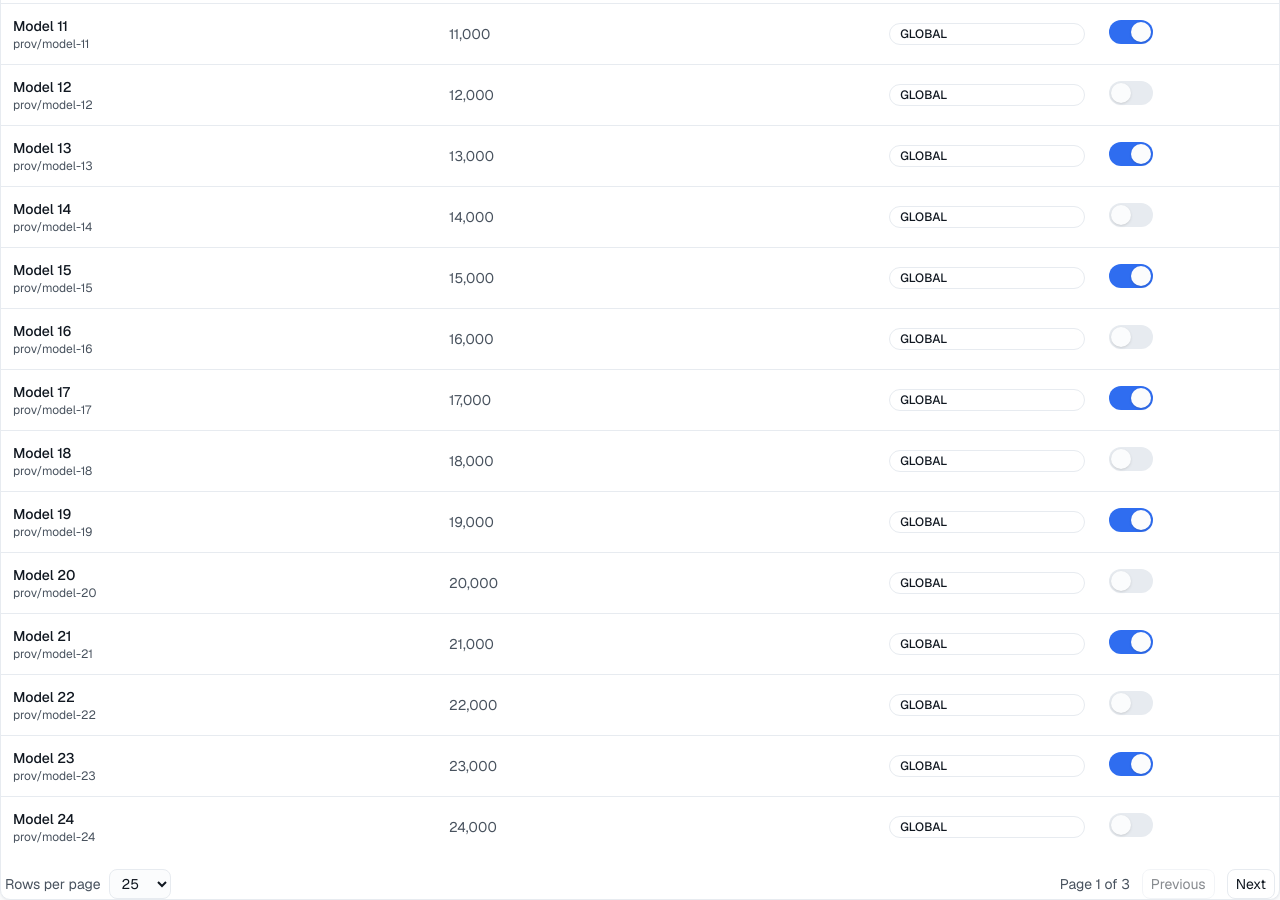
Test: ModelsPage — pagination › test_next_prev: Next/Previous move between page slices
The width and height of the screenshot is (1280, 900).
(page scrolled)
Click the button "Next" at x=1251, y=884, box [1227, 868, 1275, 898]
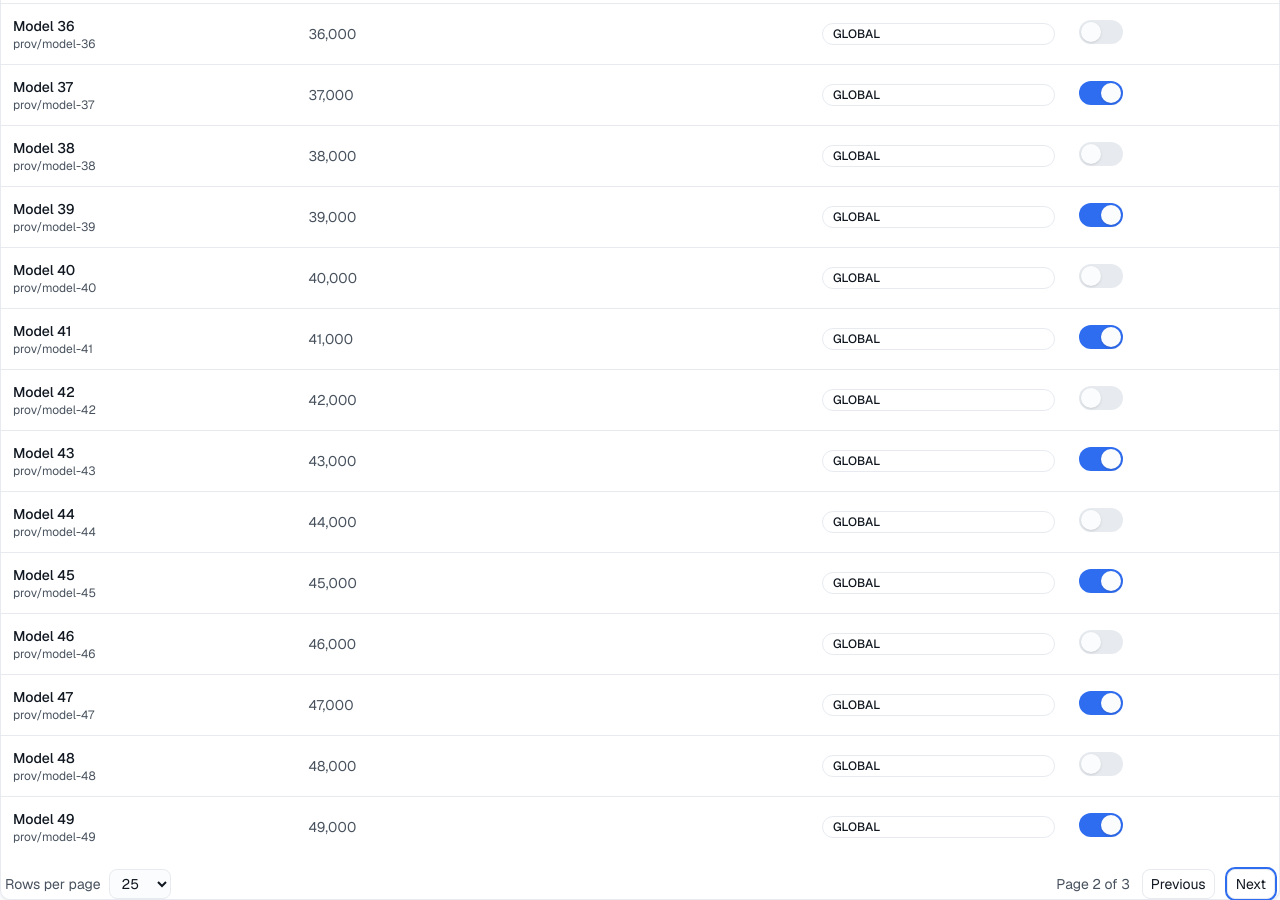
Result: the text "Page 2 of 3" is shown at [1056, 874, 1130, 894]
Click the button "Previous" at x=1178, y=884, box [1142, 868, 1215, 898]
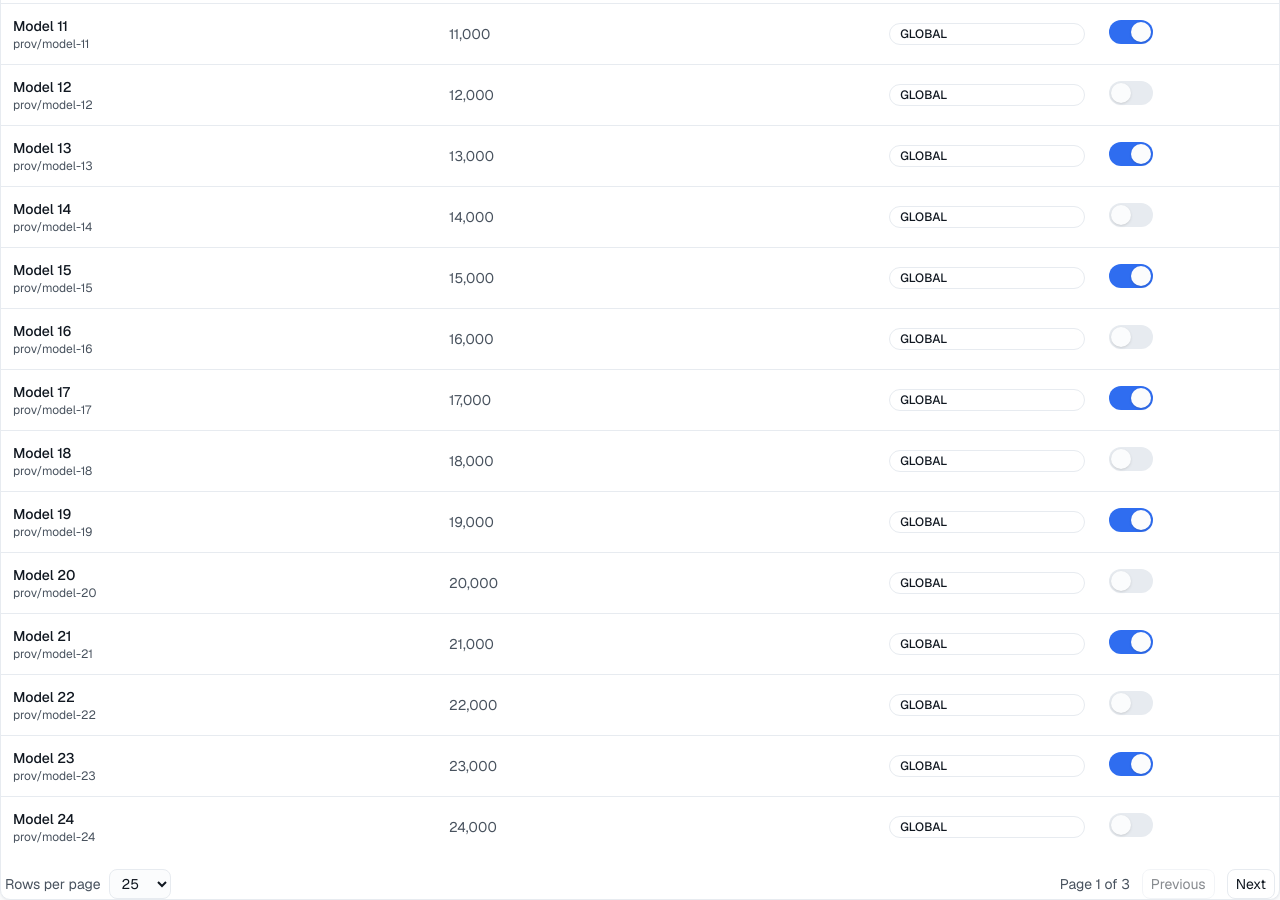
Result: the text "Page 1 of 3" is shown at [1060, 874, 1130, 894]
